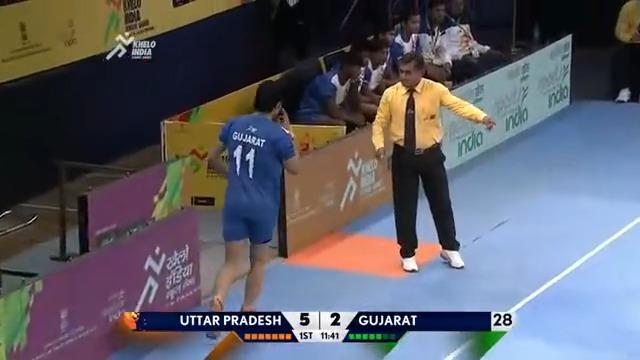Player: (369, 50, 496, 273), (204, 79, 300, 339), (292, 50, 370, 130)
referee: (611, 0, 639, 103)
